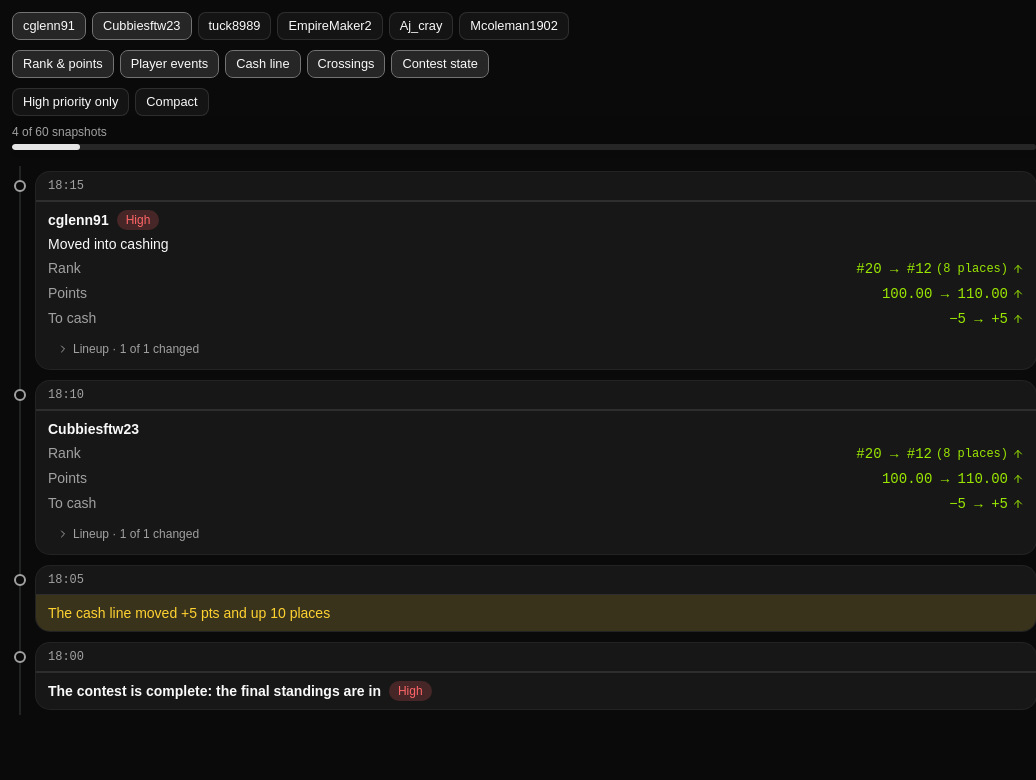
Scenario: the filter bar › selects any VIP, showing their rows beside the contest-level items
Click the button "Cubbiesftw23" at (142, 26), box 92,12 -> 192,40
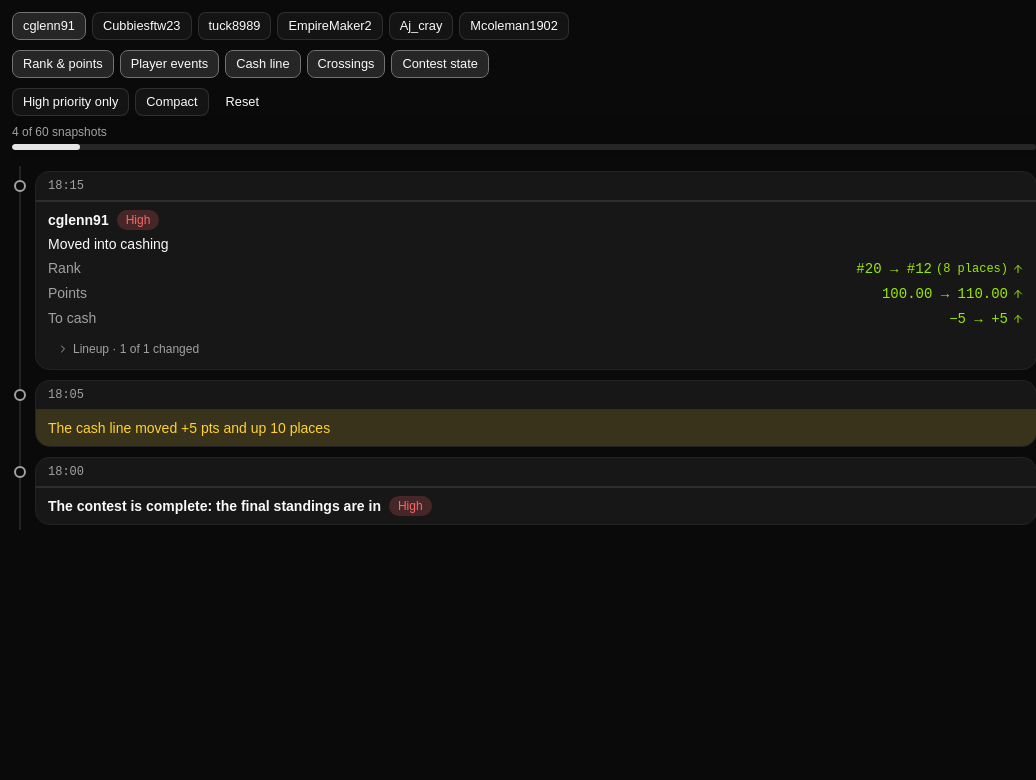
Expected: the element "cglenn91" is shown, 36,201 -> 1035,369
Click the button "cglenn91" at (49, 26), box 12,12 -> 86,40
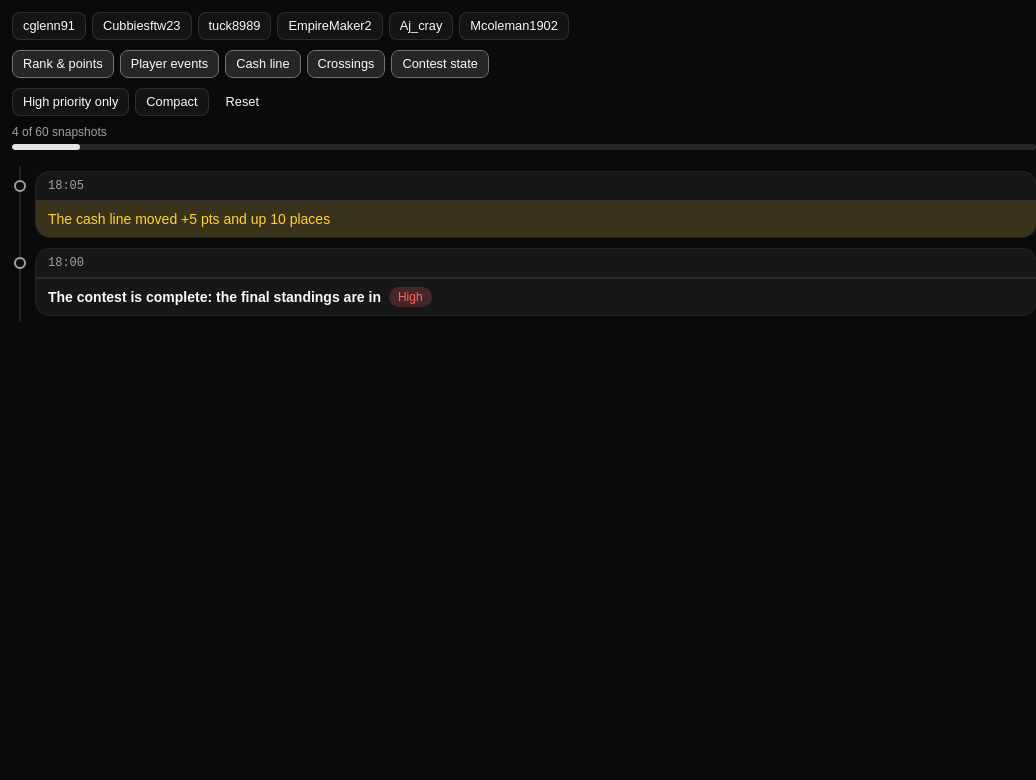
Click the button "Cubbiesftw23" at (142, 26), box 92,12 -> 192,40
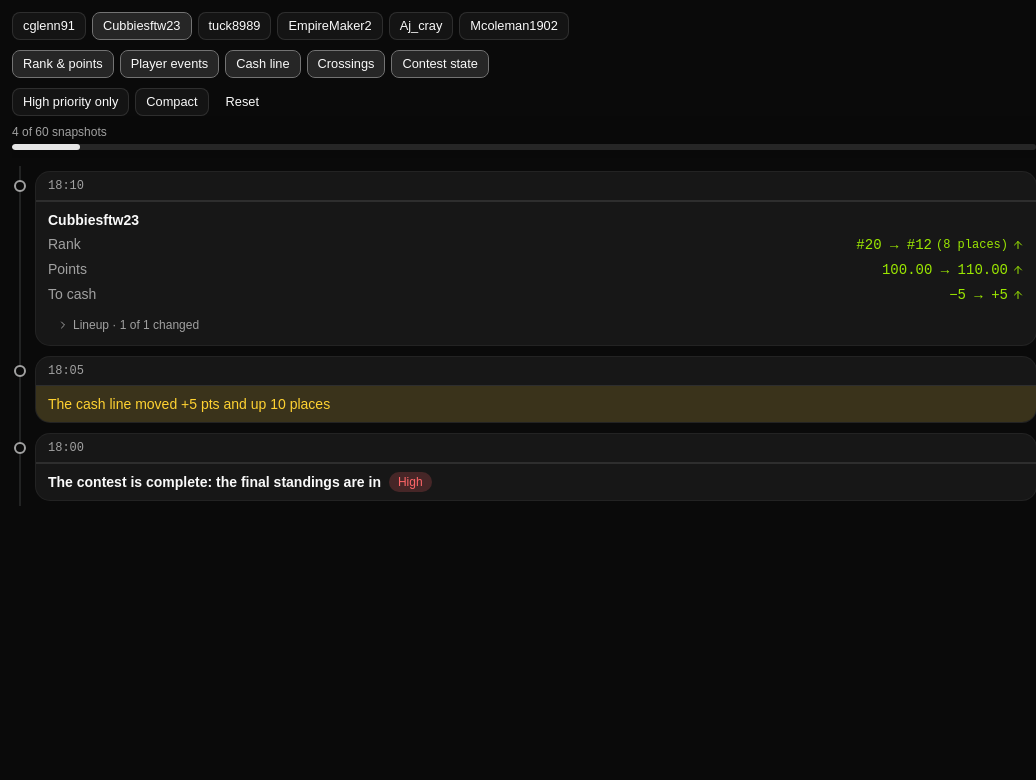
Result: the element "Cubbiesftw23" is shown at 36,201 -> 1035,345
